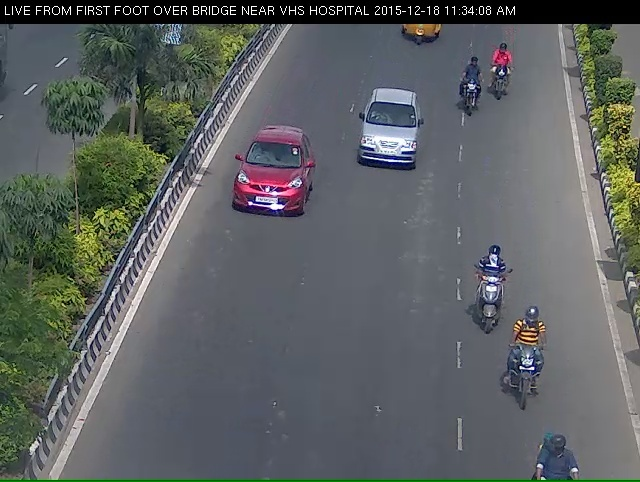Auto: (395, 17, 457, 56)
Car: (216, 134, 313, 250), (349, 101, 430, 195)
Person: (468, 265, 521, 353), (514, 338, 554, 437), (450, 59, 484, 127), (489, 52, 516, 111)
